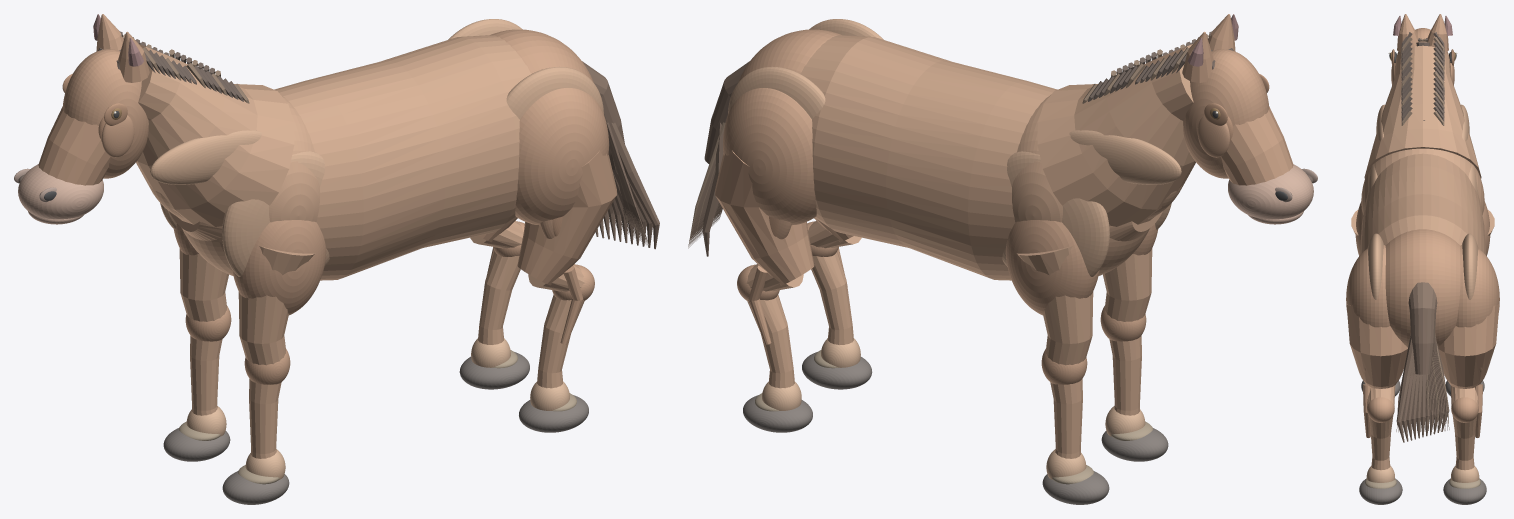
File: kun-detail.glb
3 views of the same model, side by side, from view 1: azimuth 30°, elevation 25°; view 2: azimuth 150°, elevation 25°; view 3: azimuth 270°, elevation 25° (orthographic). The views are drawn at different scales.
Visible parts, largest first — view 1: Trup koně, Krk, Kyčel Zadní pravá, Stehno Zadní pravá, Plece Přední pravá, Hlava, Horní část Přední pravá, Hrudník, Nosní hřbet, Podélný sval krku P, Zadní bérec Zadní levá, Kontura plece P (+23 smaller); view 2: Trup koně, Krk, Kyčel Zadní levá, Stehno Zadní levá, Plece Přední levá, Hlava, Horní část Přední levá, Hrudník, Nosní hřbet, Podélný sval krku L, Zadní bérec Zadní pravá, Kontura plece L (+24 smaller); view 3: Trup koně, Krk, Záď, Stehno Zadní pravá, Stehno Zadní levá, Kořen ocasu, Kyčel Zadní pravá, Kyčel Zadní levá, Hrudník, Zadní bérec Zadní pravá, Zadní bérec Zadní levá, Kontura kyčle L (+25 smaller).
Part boxes in pixels (bbox=[...]): Trup koně: bbox=[169, 35, 531, 280]; Krk: bbox=[136, 44, 294, 226]; Kyčel Zadní pravá: bbox=[515, 88, 608, 225]; Stehno Zadní pravá: bbox=[517, 150, 616, 285]; Plece Přední pravá: bbox=[232, 220, 326, 315]; Hlava: bbox=[62, 49, 148, 178]; Horní část Přední pravá: bbox=[238, 246, 314, 365]; Hrudník: bbox=[182, 94, 319, 275]; Nosní hřbet: bbox=[38, 107, 110, 185]; Podélný sval krku P: bbox=[150, 130, 262, 184]; Zadní bérec Zadní levá: bbox=[470, 220, 523, 344]; Kontura plece P: bbox=[222, 151, 329, 276]; Trup koně: bbox=[800, 35, 1162, 280]; Krk: bbox=[1037, 44, 1195, 226]; Kyčel Zadní levá: bbox=[723, 88, 816, 225]; Stehno Zadní levá: bbox=[715, 150, 814, 285]; Plece Přední levá: bbox=[1005, 220, 1099, 315]; Hlava: bbox=[1183, 49, 1269, 178]; Horní část Přední levá: bbox=[1017, 246, 1093, 365]; Hrudník: bbox=[1012, 94, 1149, 275]; Nosní hřbet: bbox=[1221, 107, 1293, 185]; Podélný sval krku L: bbox=[1069, 130, 1181, 184]; Zadní bérec Zadní pravá: bbox=[808, 220, 861, 344]; Kontura plece L: bbox=[1002, 151, 1109, 276]; Trup koně: bbox=[1360, 153, 1485, 254]; Krk: bbox=[1364, 45, 1481, 178]; Záď: bbox=[1385, 229, 1460, 347]; Stehno Zadní pravá: bbox=[1346, 304, 1407, 388]; Stehno Zadní levá: bbox=[1438, 304, 1499, 388]; Kořen ocasu: bbox=[1408, 282, 1437, 374]; Kyčel Zadní pravá: bbox=[1346, 245, 1389, 327]; Kyčel Zadní levá: bbox=[1456, 245, 1499, 327]; Hrudník: bbox=[1361, 148, 1484, 214]; Zadní bérec Zadní pravá: bbox=[1367, 385, 1395, 470]; Zadní bérec Zadní levá: bbox=[1450, 385, 1478, 470]; Kontura kyčle L: bbox=[1462, 233, 1478, 299].
Size of the model in its own units: 3.23 by 2.4 by 0.972.
